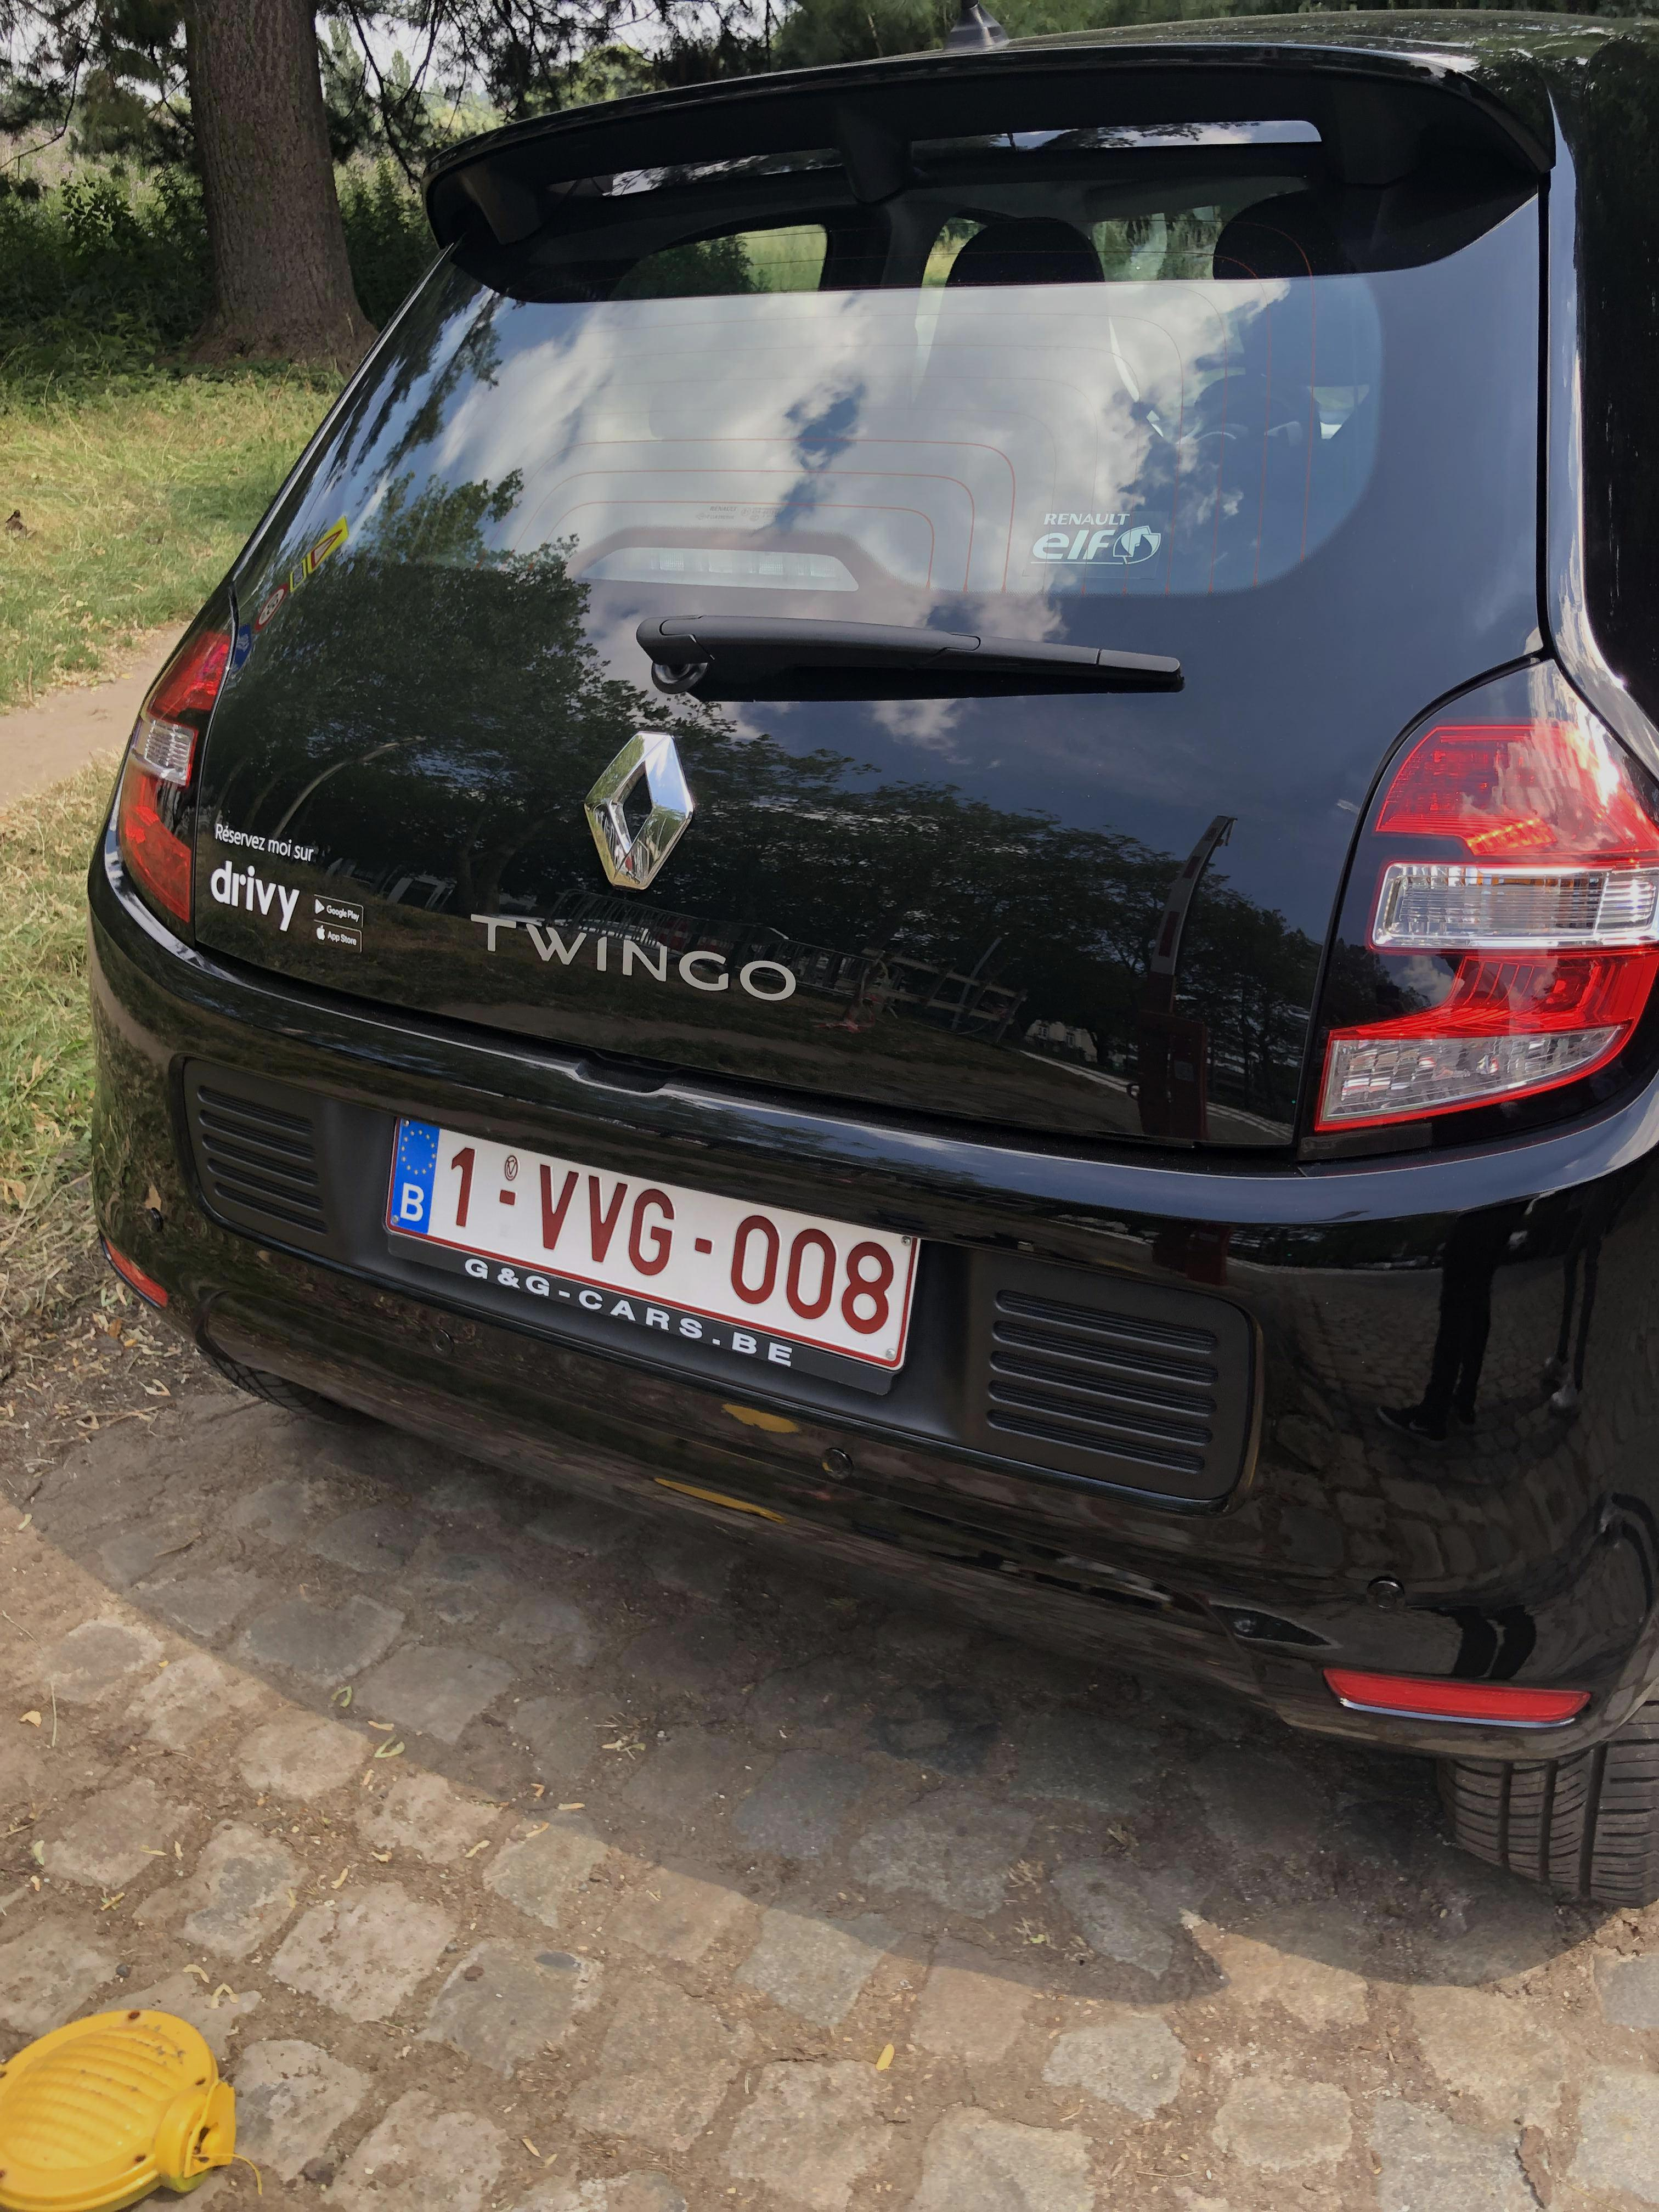plate: (362, 1088, 947, 1388)
